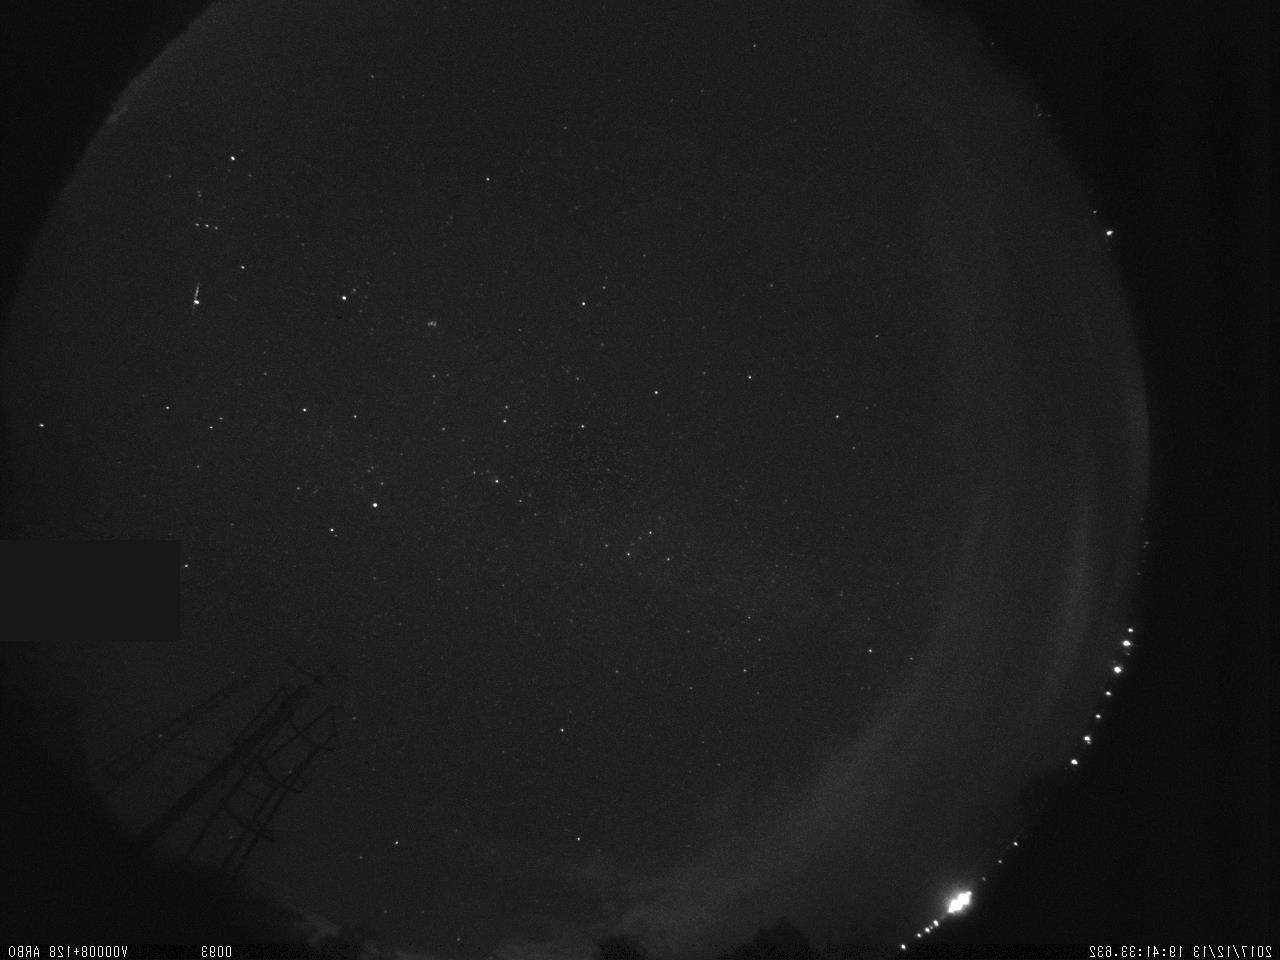meteor: (180, 275, 208, 314)
